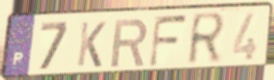4: (231, 11, 259, 64)
7: (37, 20, 71, 73)
F: (147, 14, 189, 69)
K: (75, 20, 108, 69)
R: (185, 11, 228, 69), (109, 18, 150, 70)
